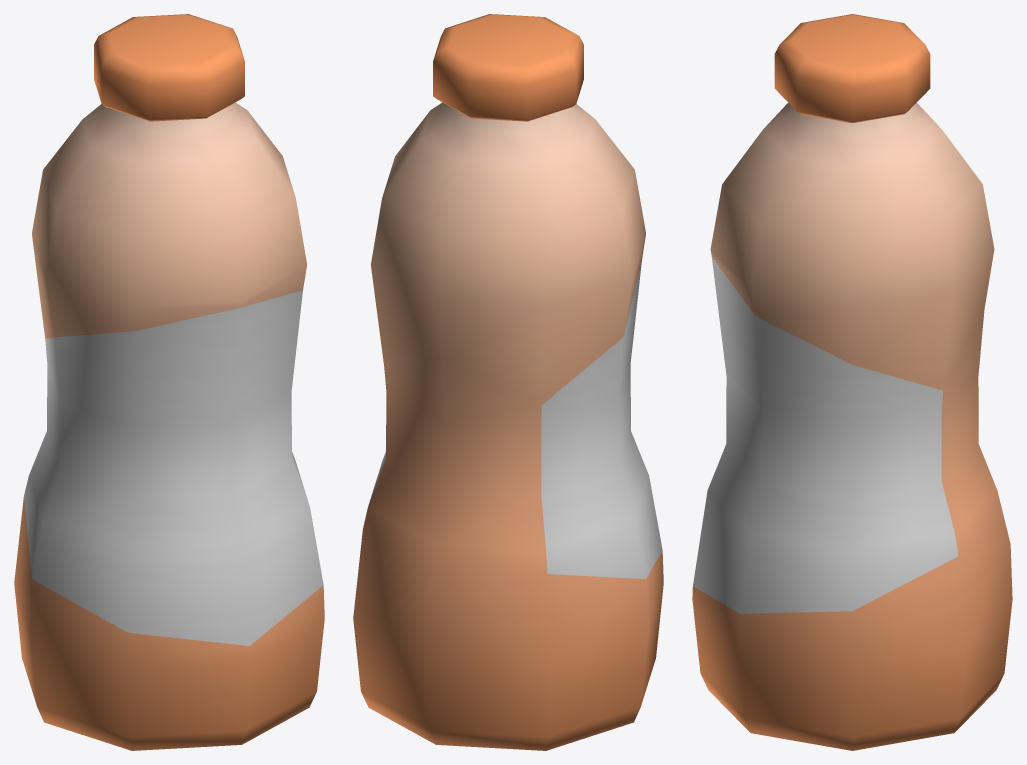
Rendered from SM_Yogurt_2.4.fbx.
The picture shows the model from 3 angles, left to right: view 1: azimuth 30°, elevation 25°; view 2: azimuth 150°, elevation 25°; view 3: azimuth 270°, elevation 25°; orthographic projection.
Visible parts, largest first — view 1: SM_Yogurt_2.4; view 2: SM_Yogurt_2.4; view 3: SM_Yogurt_2.4.
Part boxes in pixels (<box>): SM_Yogurt_2.4: <box>14,14,324,750</box>; SM_Yogurt_2.4: <box>353,14,663,750</box>; SM_Yogurt_2.4: <box>692,14,1012,750</box>.
Bounding box in the file's own units: 9.16 × 20.7 × 9.16.
1 material, 1 textured.
